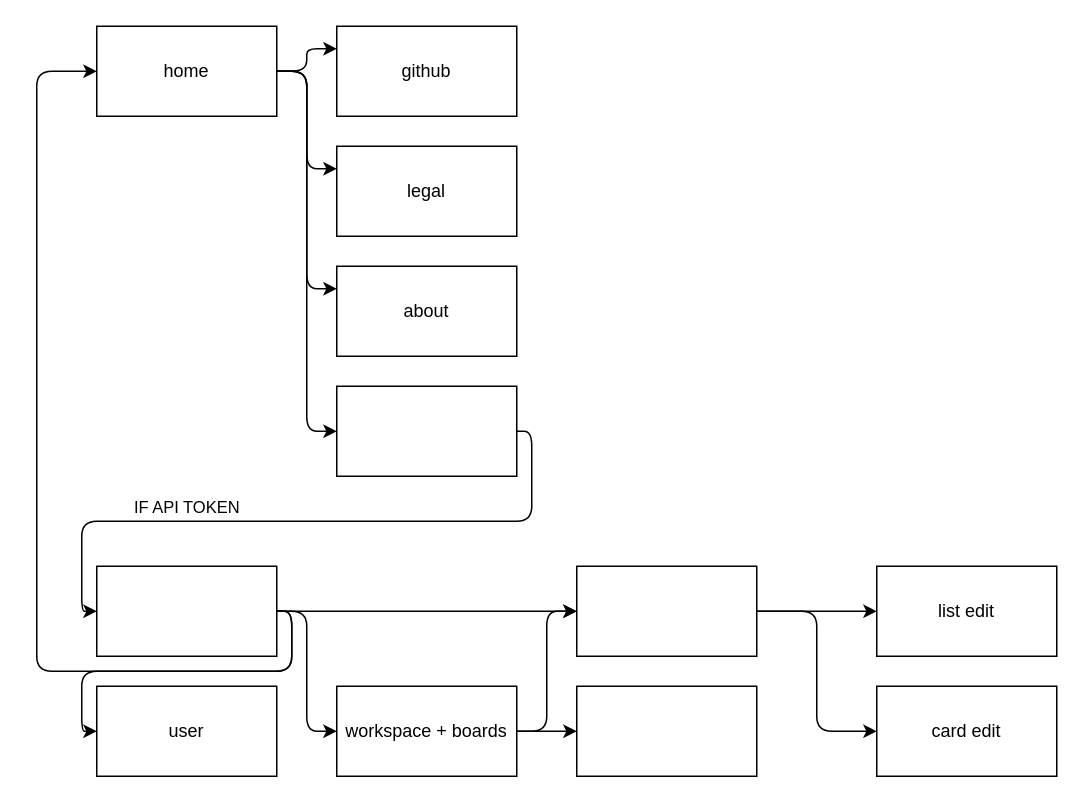
This 1083x803 diagram has some shape labels left out. The shapes that lost their labels are listed below. From the top down, each one's centre as x and y in pixels, then its label:
point (426, 430): connect
point (186, 610): workspaces + boards
point (666, 610): board + lists + cards in list
point (666, 730): edit workspace
